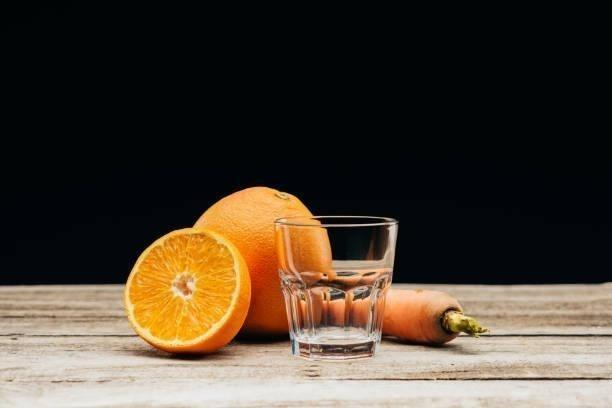glass-normal: (273, 213, 400, 361)
